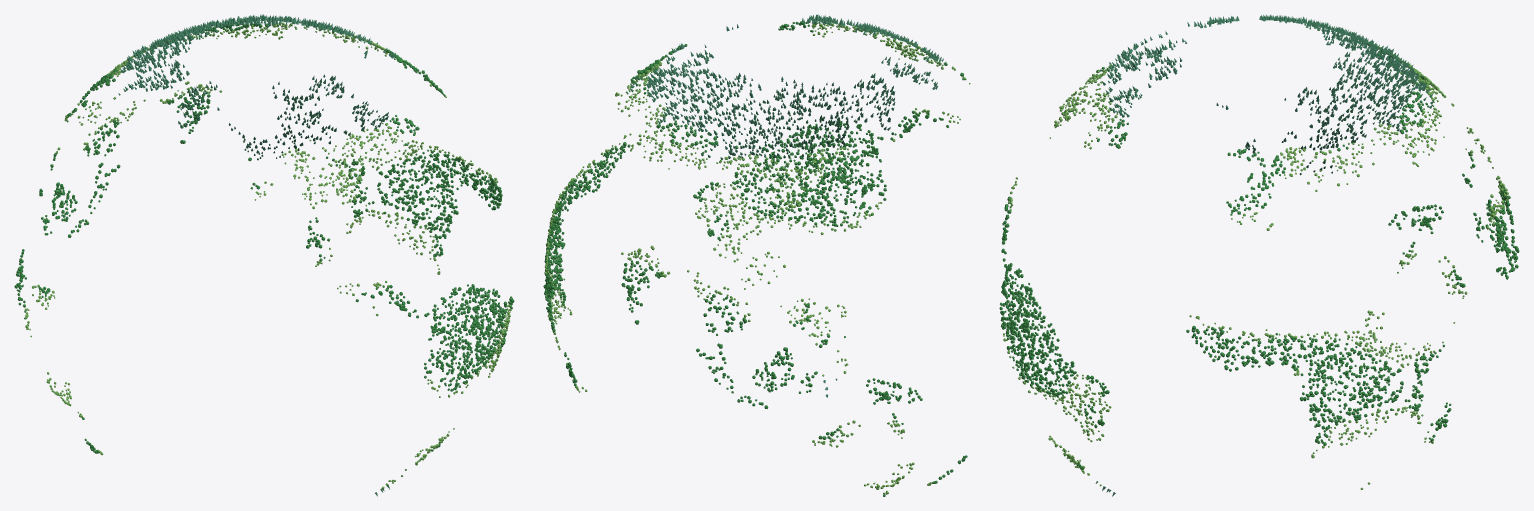
Rendered from globe_trees.glb.
3 renders of one model, left to right at view 1: azimuth 30°, elevation 25°; view 2: azimuth 150°, elevation 25°; view 3: azimuth 270°, elevation 25°, orthographic. The views are drawn at different scales.
Parts seen in each view (by area): view 1: Trees1, Trees2, Trees0; view 2: Trees1, Trees2, Trees0; view 3: Trees1, Trees2, Trees0.
Boxes of the visible parts, <box> form: Trees1: <box>14,23,514,470</box>; Trees2: <box>118,14,395,496</box>; Trees0: <box>24,22,511,489</box>; Trees1: <box>543,21,967,496</box>; Trees2: <box>626,14,945,397</box>; Trees0: <box>544,22,970,494</box>; Trees1: <box>999,41,1519,469</box>; Trees2: <box>1095,14,1434,496</box>; Trees0: <box>1003,29,1508,489</box>.
Size of the model in its own units: 1.88 by 1.83 by 2.02.
